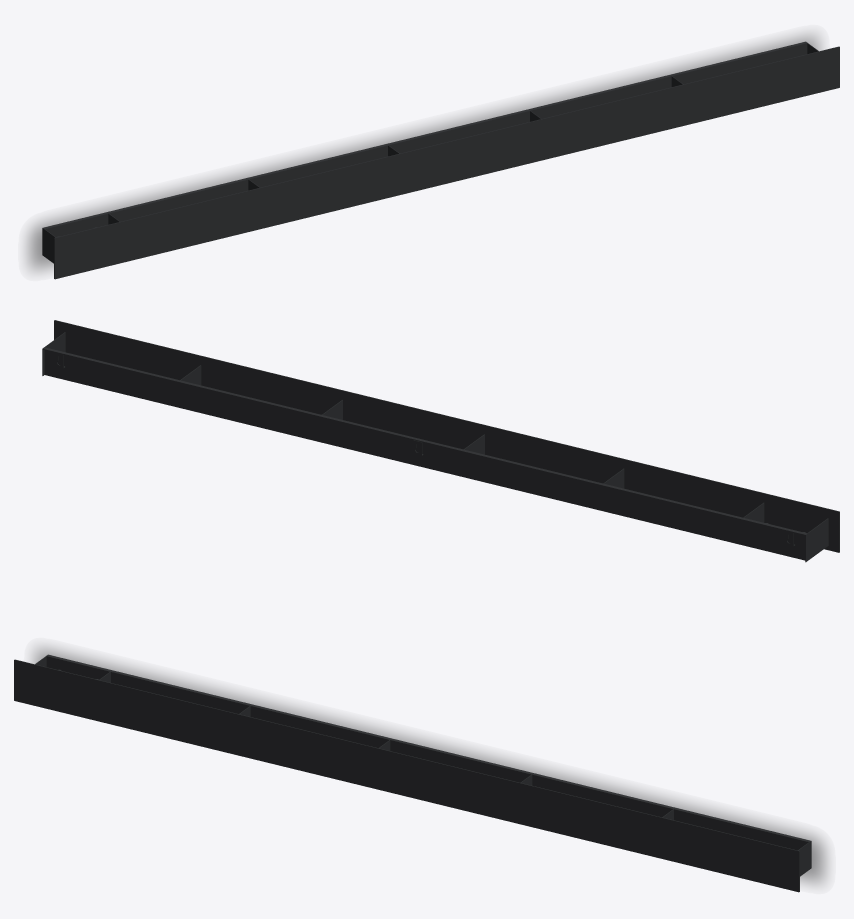
The model's file is skyline-patron.ce545c6811.ar.glb.
The picture shows the model from 3 angles, top to bottom: view 1: azimuth 30°, elevation 25°; view 2: azimuth 150°, elevation 25°; view 3: azimuth 330°, elevation 25°; orthographic projection.
Parts seen in each view (by area): view 1: NAUO1, object 2; view 2: NAUO1; view 3: NAUO1, object 2.
Boxes of the visible parts, x1=… form: NAUO1: x1=42, y1=41, x2=839, y2=279; object 2: x1=26, y1=34, x2=821, y2=271; NAUO1: x1=42, y1=320, x2=839, y2=562; NAUO1: x1=14, y1=654, x2=811, y2=892; object 2: x1=32, y1=647, x2=827, y2=884.
Bounding box in the file's own units: 1.88 × 0.17 × 0.0929.
Materials: 2 (1 with a texture image).
